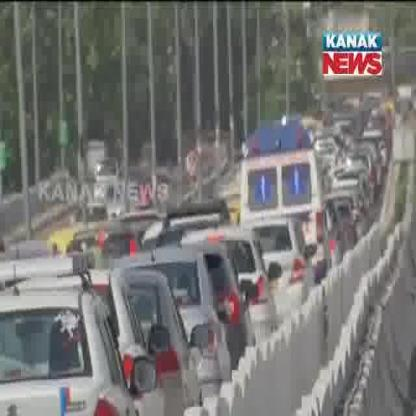priority: (235, 113, 326, 217)
